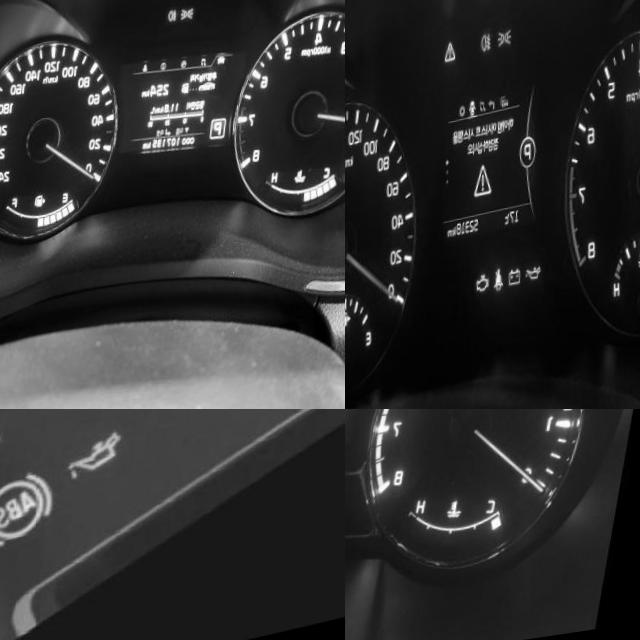Central Warning lamp: (449, 47, 463, 70)
FrontFogLight: (485, 39, 498, 62), (172, 17, 181, 32)
Low fuel level: (0, 409, 14, 470)
SideLamp: (501, 36, 519, 58), (185, 15, 199, 30)
